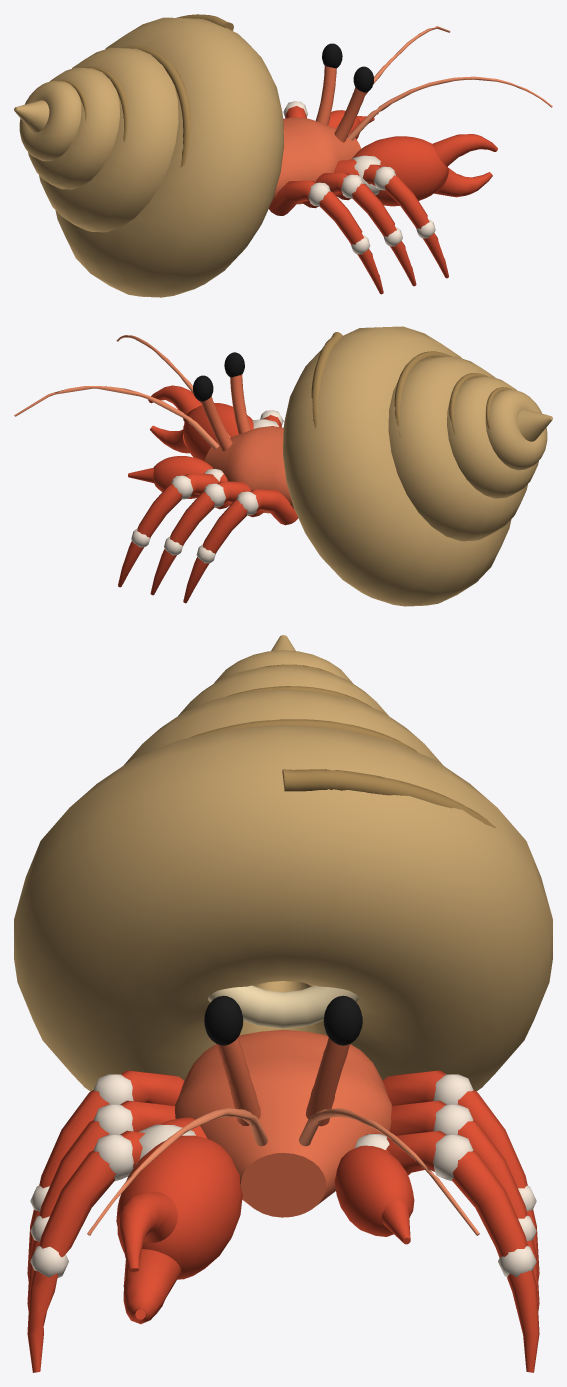
Rendered from hermitcrab.glb.
3 renders of one model, top to bottom at view 1: azimuth 30°, elevation 25°; view 2: azimuth 150°, elevation 25°; view 3: azimuth 270°, elevation 25°, orthographic. The views are drawn at different scales.
Parts seen in each view (by area): view 1: Shell, Legs, Claws, Body, Joints, ShellRidge, Stalks, Antennae, Eyes; view 2: Shell, Legs, Claws, Body, Joints, ShellRidge, Antennae, Stalks, Eyes; view 3: Shell, Legs, Claws, Body, Joints, ShellRidge, Aperture, Stalks, Antennae, Eyes.
Boxes of the visible parts, x1,y1,x2,y2 form: Shell: (14,17,284,297); Legs: (269,106,448,294); Claws: (328,110,497,206); Body: (273,117,361,204); Joints: (283,101,435,254); ShellRidge: (56,14,233,167); Stalks: (315,65,365,142); Antennae: (336,26,552,140); Eyes: (322,43,373,92); Shell: (282,326,552,606); Legs: (118,415,297,603); Claws: (128,385,273,498); Body: (204,426,294,513); Joints: (131,410,283,563); ShellRidge: (311,332,511,436); Antennae: (14,335,230,449); Stalks: (201,374,250,451); Eyes: (193,352,244,401); Shell: (14,635,552,1091); Legs: (27,1070,539,1372); Claws: (116,1117,414,1324); Body: (174,1029,392,1217); Joints: (30,1074,536,1278); ShellRidge: (189,664,495,828); Aperture: (208,985,358,1028); Stalks: (216,1037,350,1126); Antennae: (87,1108,479,1235); Eyes: (204,995,362,1045).
Size of the model in its own units: 0.0819 by 0.0397 by 0.0415.
